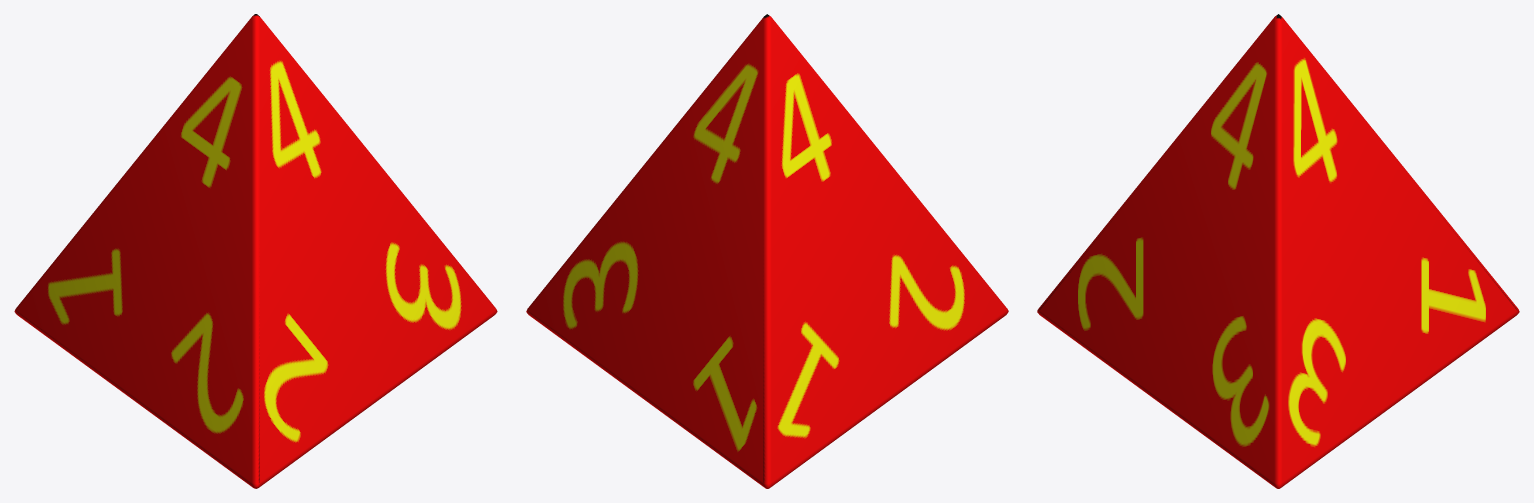
File: Dice.fbx
3 renders of one model, left to right at view 1: azimuth 30°, elevation 25°; view 2: azimuth 150°, elevation 25°; view 3: azimuth 270°, elevation 25°, orthographic.
Visible parts, largest first — view 1: NGon001; view 2: NGon001; view 3: NGon001.
Boxes of the visible parts, bbox=[...] form: NGon001: bbox=[14, 14, 497, 488]; NGon001: bbox=[526, 14, 1008, 488]; NGon001: bbox=[1037, 14, 1519, 488].
Bounding box in the file's own units: 58.73 × 55.47 × 67.67.
